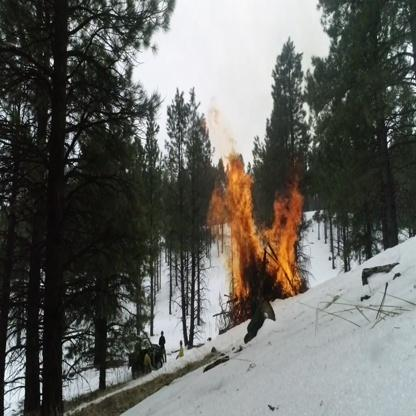Fire: (202, 103, 306, 317)
